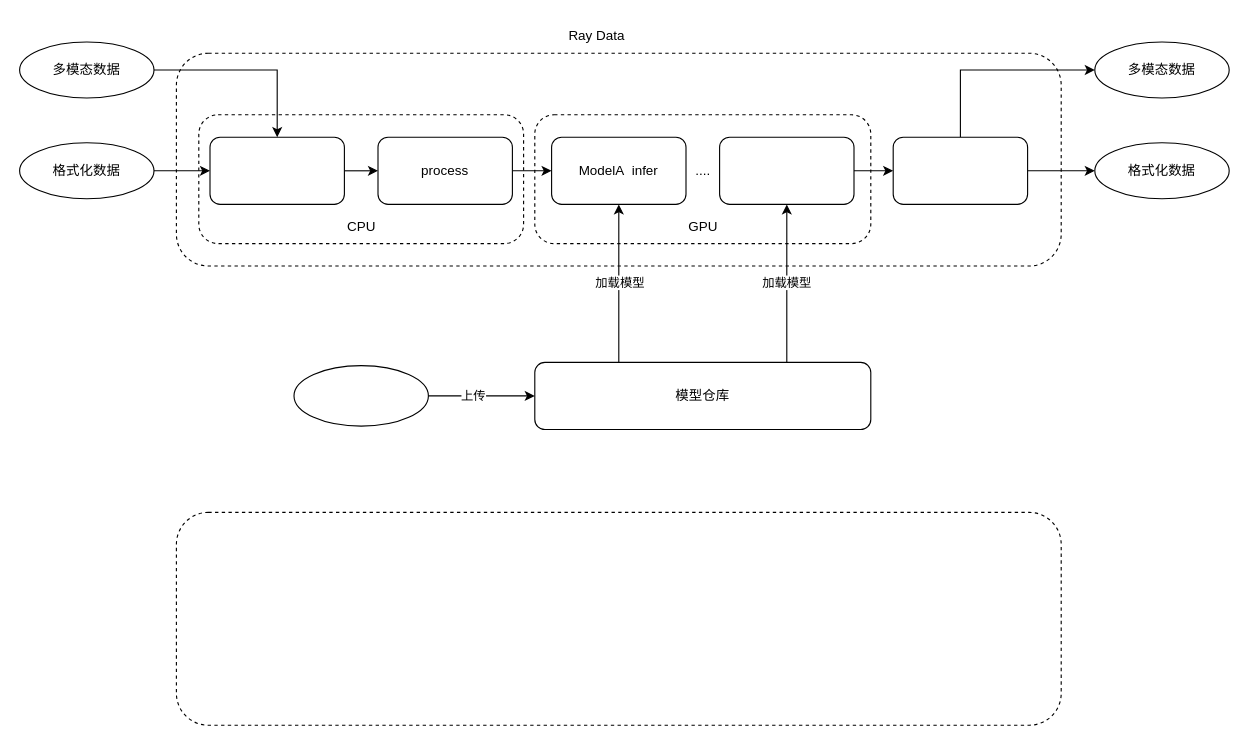
The diagram is 1249 pixels wide and 745 high, and some of its shapes have lost their labels. The box of each missing label's shape, as (x1, y1, x2, y2) in pixels:
ModelB infer: (718, 136, 854, 204)
SDK: (293, 365, 428, 426)
sink: (892, 136, 1028, 204)
source: (209, 136, 344, 204)
